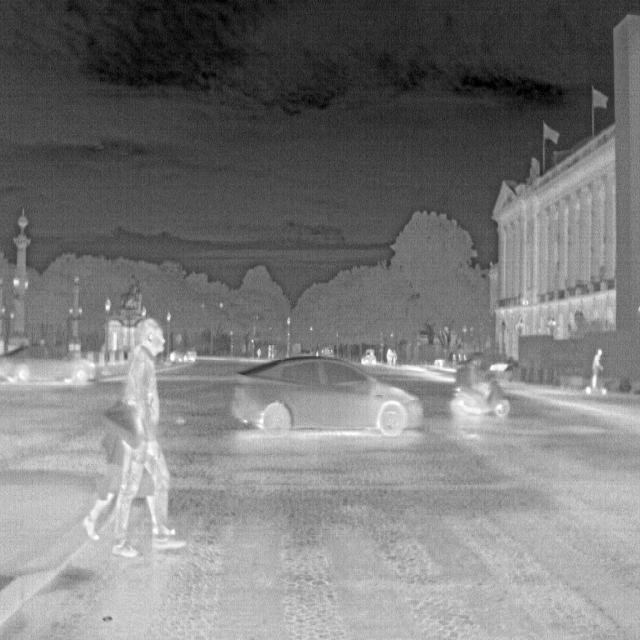Pedestrian: (111, 320, 190, 560), (83, 398, 134, 543), (581, 347, 609, 397)
Vehicle: (229, 343, 425, 442), (0, 342, 100, 388), (448, 365, 512, 425)
